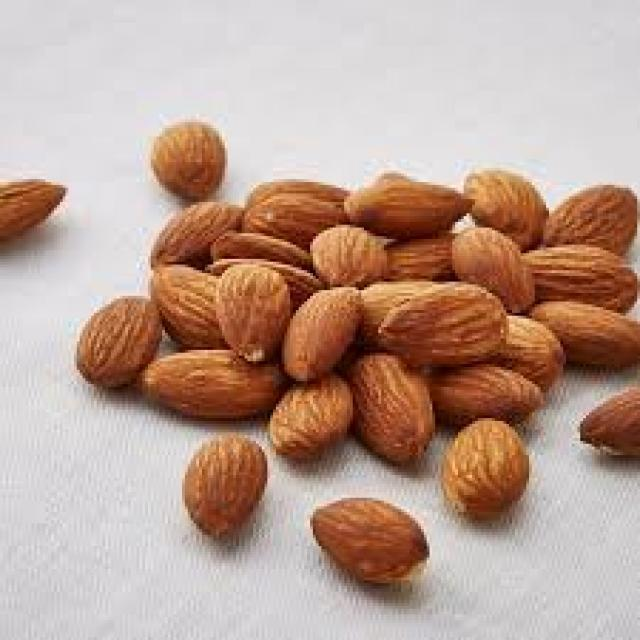almond: (380, 282, 510, 370), (309, 497, 429, 587), (278, 280, 365, 397), (352, 352, 435, 473), (183, 432, 270, 540), (142, 348, 282, 415), (521, 296, 640, 373), (525, 240, 640, 317), (443, 420, 530, 520), (77, 297, 167, 390), (215, 260, 290, 362), (145, 199, 247, 274), (463, 169, 552, 254), (447, 220, 530, 310), (342, 178, 472, 235), (541, 180, 640, 251), (272, 375, 355, 457), (150, 115, 227, 197), (435, 365, 543, 420), (240, 178, 348, 230), (147, 267, 225, 337), (310, 225, 382, 298), (0, 175, 66, 245), (578, 384, 640, 456)
